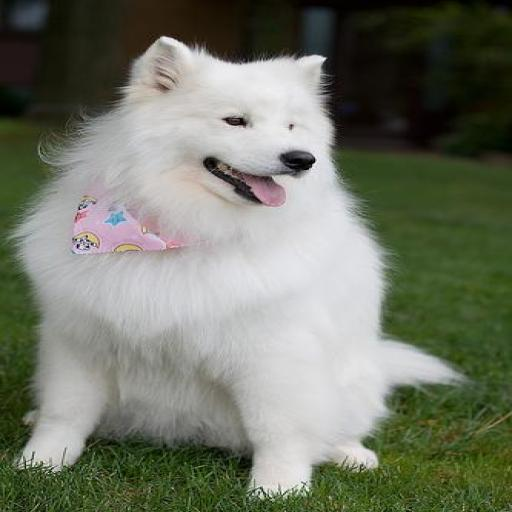dog_face: (124, 40, 323, 204)
